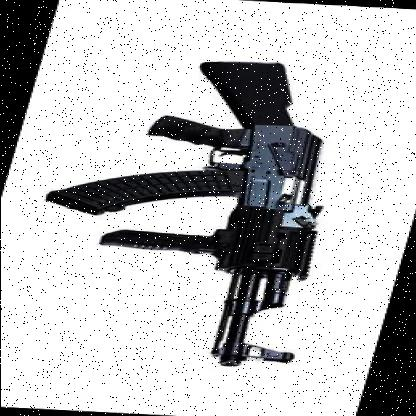rifle: (3, 52, 366, 380)
